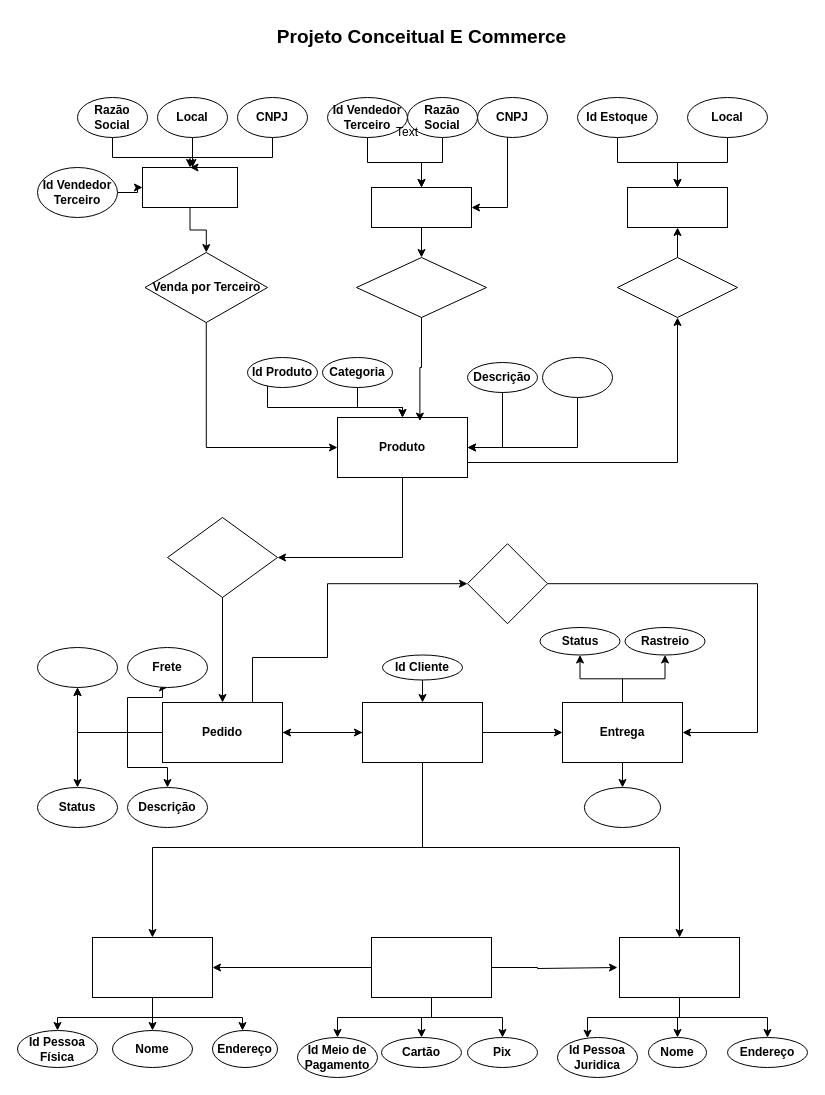
Some shapes in this 825 by 1095 pixel diagram are drawn without their labels. Each missing label, with the centre of its shape:
"Calcula Frete" belongs at (x=507, y=583).
"Cliente" belongs at (x=422, y=732).
"Estocagem" belongs at (x=677, y=287).
"Estoque" belongs at (x=677, y=207).
"Fornecedor" belongs at (x=421, y=207).
"Gera Pedido" belongs at (x=222, y=557).
"Id Entrega" belongs at (x=622, y=807).
"Id Pedido" belongs at (x=77, y=667).
"Meio de Pagamento" belongs at (x=431, y=967).
"Pessoa Fisica" belongs at (x=152, y=967).
"Pessoa Juridica" belongs at (x=679, y=967).
"Valor" belongs at (x=577, y=377).
"Vende" belongs at (x=421, y=287).
"Vendedor Terceiro" belongs at (x=190, y=187).
